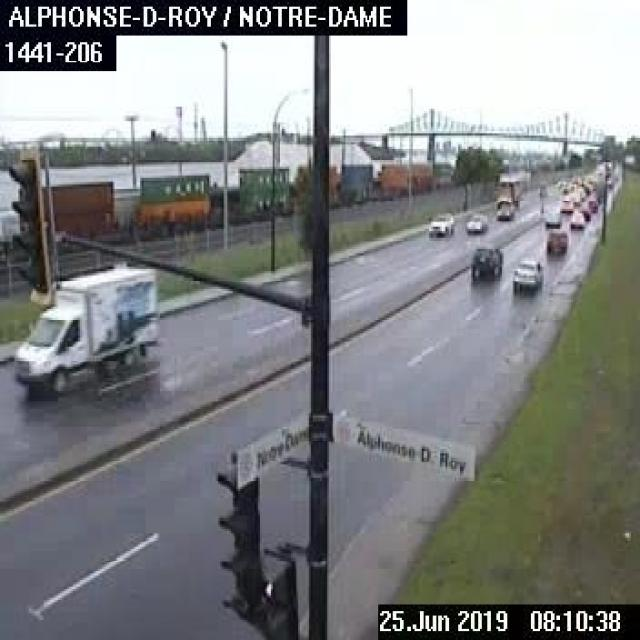vehicle: (11, 260, 158, 398), (467, 242, 504, 280), (511, 256, 542, 291), (426, 209, 454, 235), (545, 228, 566, 254), (492, 193, 512, 218), (541, 200, 559, 227), (464, 211, 486, 231), (569, 209, 584, 229), (558, 195, 572, 211), (577, 203, 590, 218), (584, 196, 596, 211)
